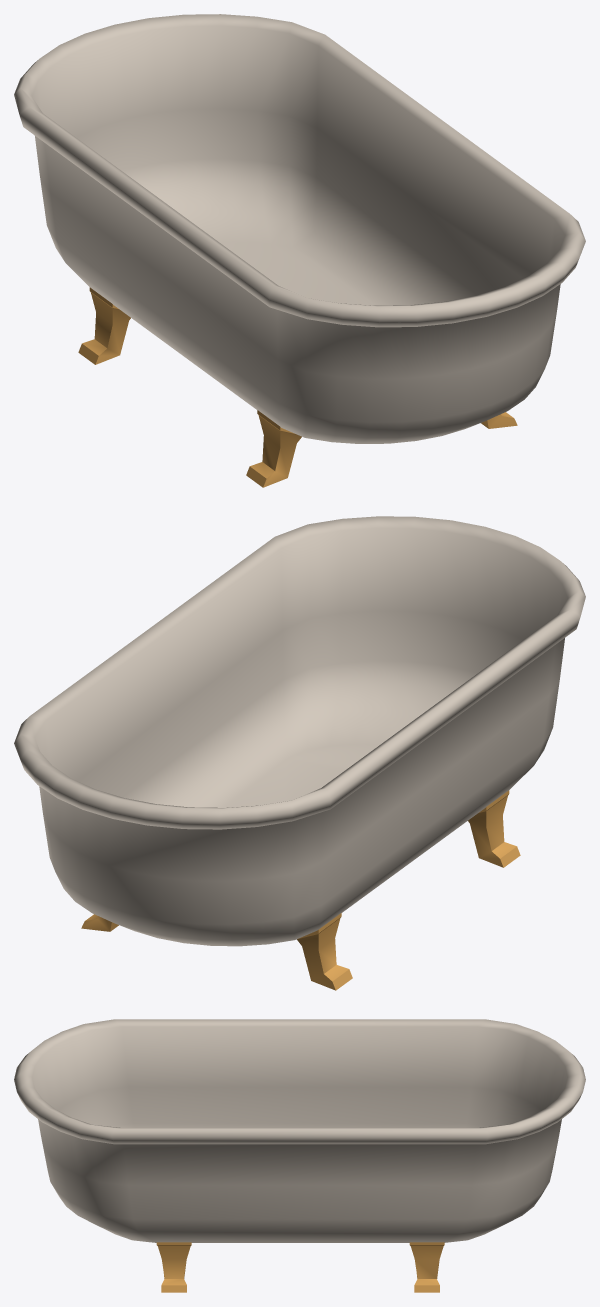
File: S_Bathtub.fbx
3 views of the same model, one above another, from view 1: azimuth 30°, elevation 25°; view 2: azimuth 150°, elevation 25°; view 3: azimuth 270°, elevation 25° (orthographic). The views are drawn at different scales.
Parts seen in each view (by area): view 1: S_Bathtub; view 2: S_Bathtub; view 3: S_Bathtub.
Boxes of the visible parts, x1,y1,x2,y2 form: S_Bathtub: (14,14,585,487); S_Bathtub: (14,516,585,990); S_Bathtub: (14,1019,585,1292).
Bounding box in the file's own units: 128 × 90.71 × 273.
